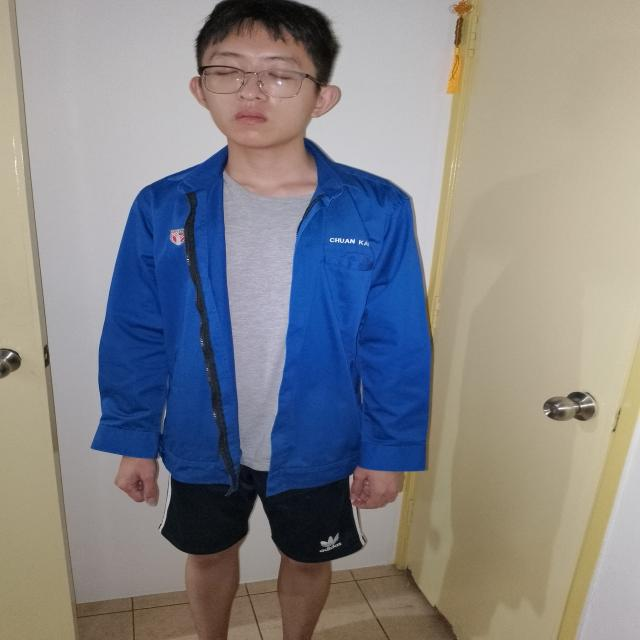person_with_labcoat: (92, 0, 431, 640)
